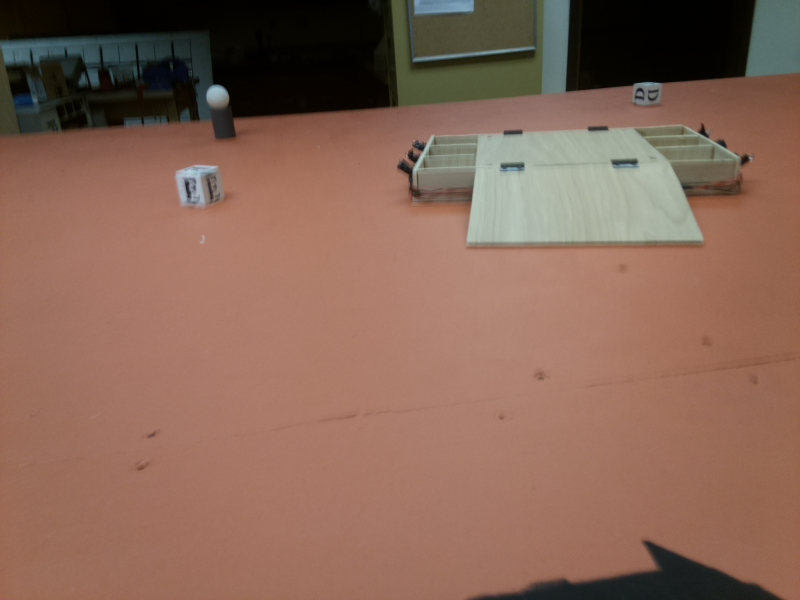blockD: (634, 82, 662, 107)
blockE: (172, 160, 224, 209)
obstacle: (202, 82, 244, 140)
side: (697, 125, 759, 177), (389, 134, 425, 180)
slope: (459, 164, 711, 245), (481, 125, 645, 133)
start: (461, 538, 783, 600)
